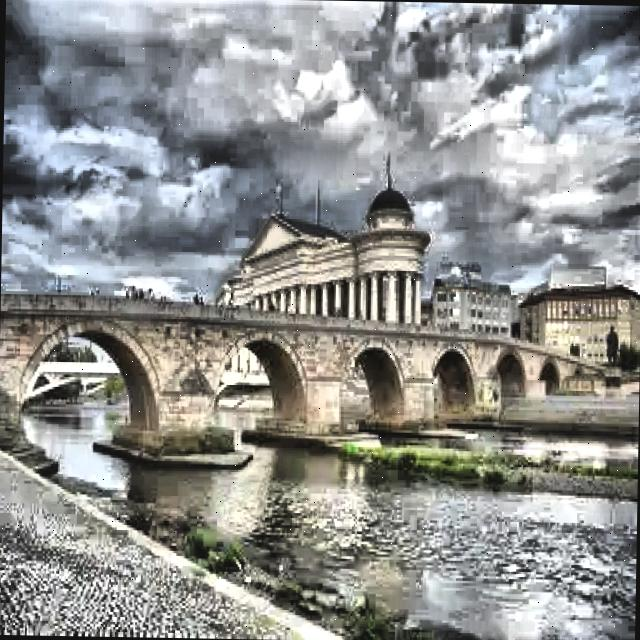stone bridge: (0, 293, 640, 477)
